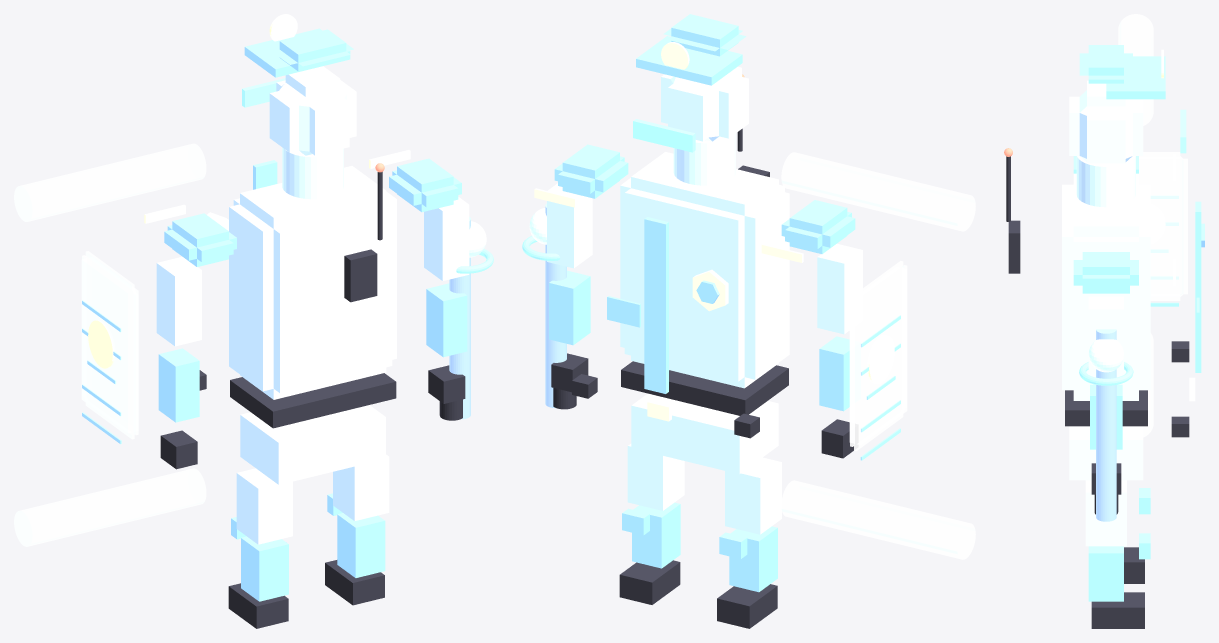
File: constitutional_cop.glb
3 renders of one model, left to right at view 1: azimuth 30°, elevation 25°; view 2: azimuth 150°, elevation 25°; view 3: azimuth 270°, elevation 25°, orthographic. The views are drawn at different scales.
Parts seen in each view (by area): view 1: ConstitutionalCop; view 2: ConstitutionalCop; view 3: ConstitutionalCop.
Part boxes in pixels (x1,y1,x2,y2): ConstitutionalCop: (14, 14, 493, 628); ConstitutionalCop: (522, 14, 975, 628); ConstitutionalCop: (1004, 14, 1204, 628).
Size of the model in its own units: 1.69 by 2.04 by 0.6775.
